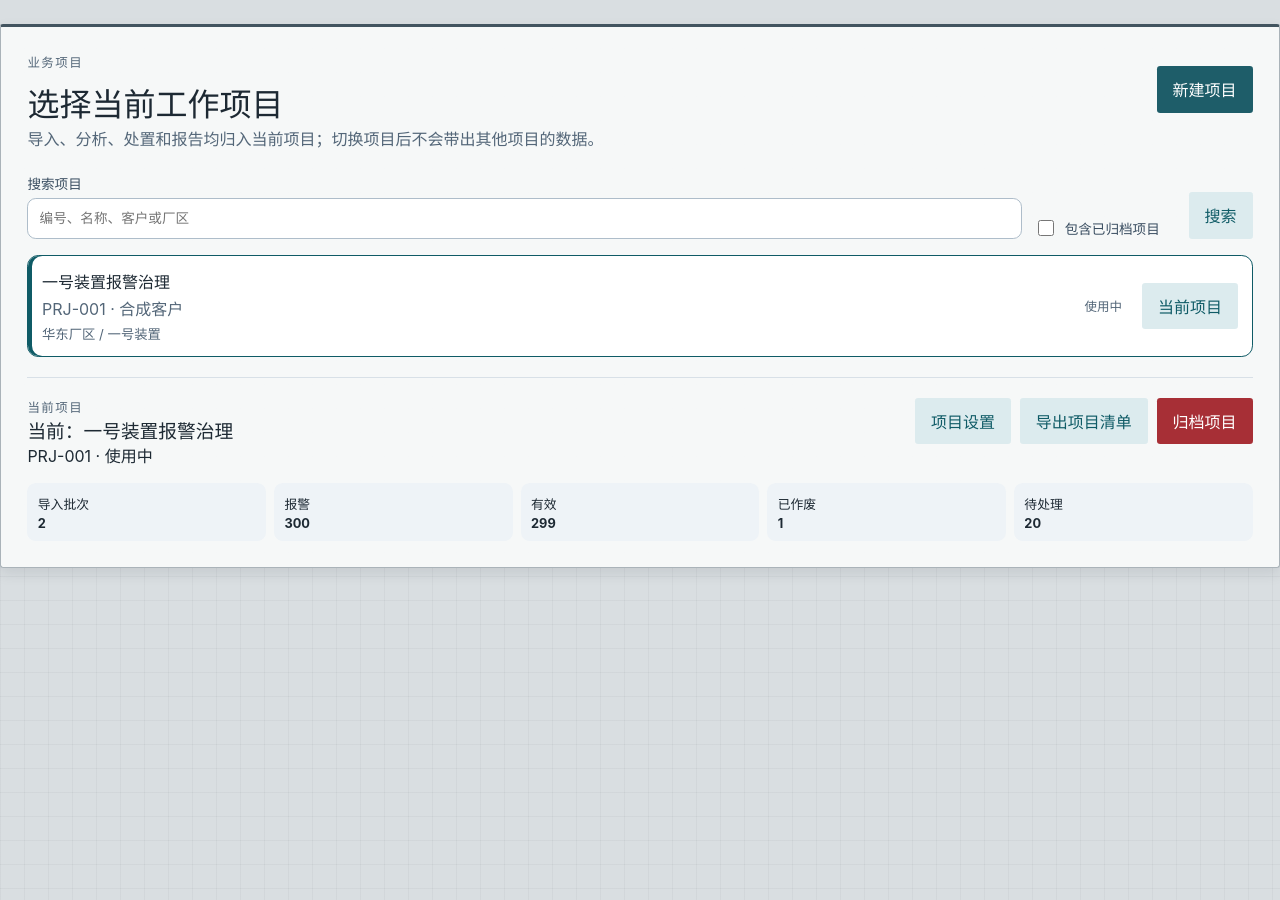
Test: M10 全中文项目化入口 › 有业务数据的项目归档后刷新统计且不展示删除入口
This screenshot has width=1280, height=900.
Check: the text "300" is shown, box [284,516,310,531]
Click the button "归档项目": (1205, 421) [1157,398,1253,444]
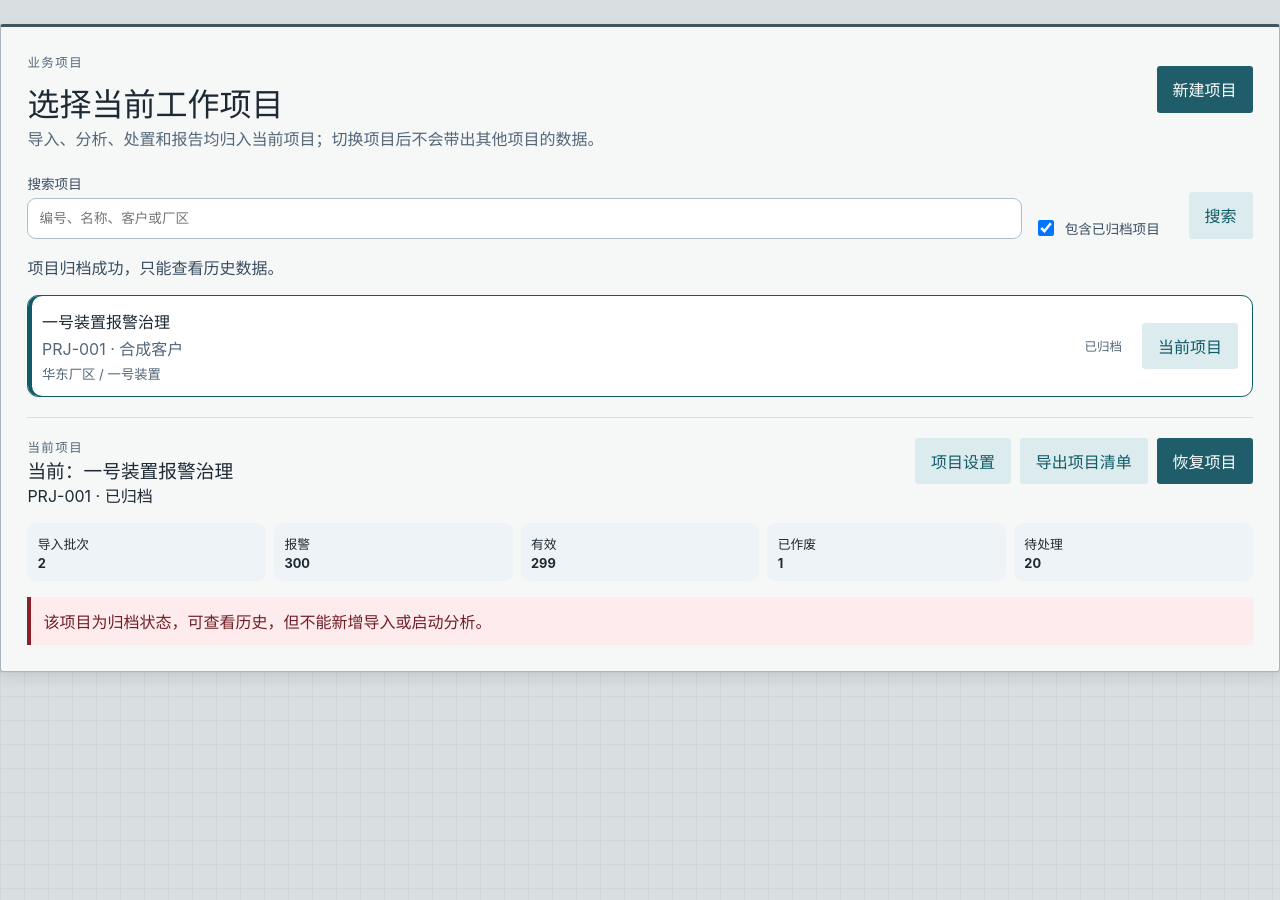
Check: the text "项目归档成功，只能查看历史数据。" is shown, box [27,258,283,278]
